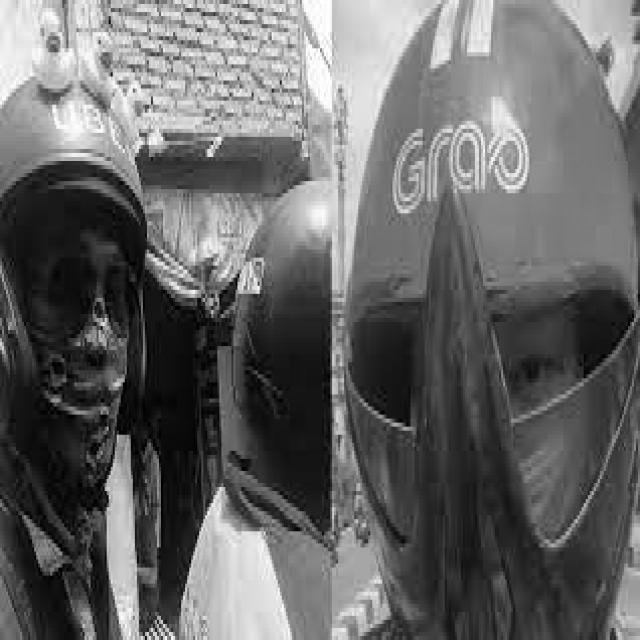Helmet: (348, 0, 640, 640), (0, 53, 148, 501), (234, 175, 344, 526)
